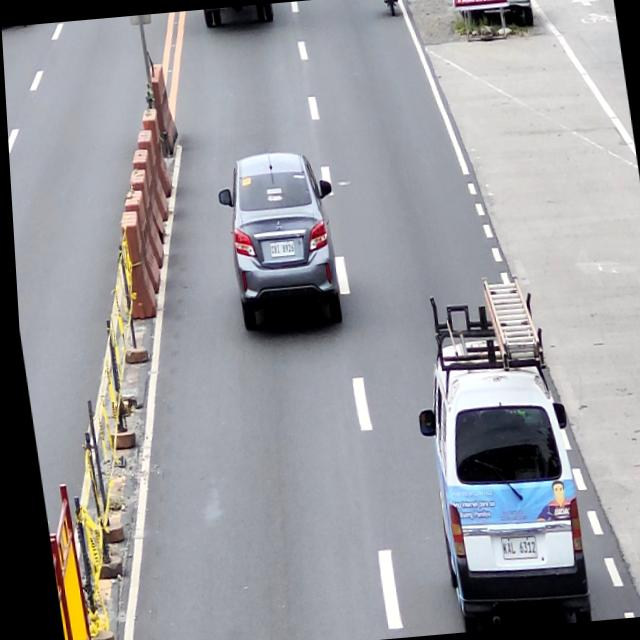Car: (403, 320, 587, 632), (210, 144, 348, 336)
License-Plate: (492, 534, 531, 560), (265, 240, 294, 258)
